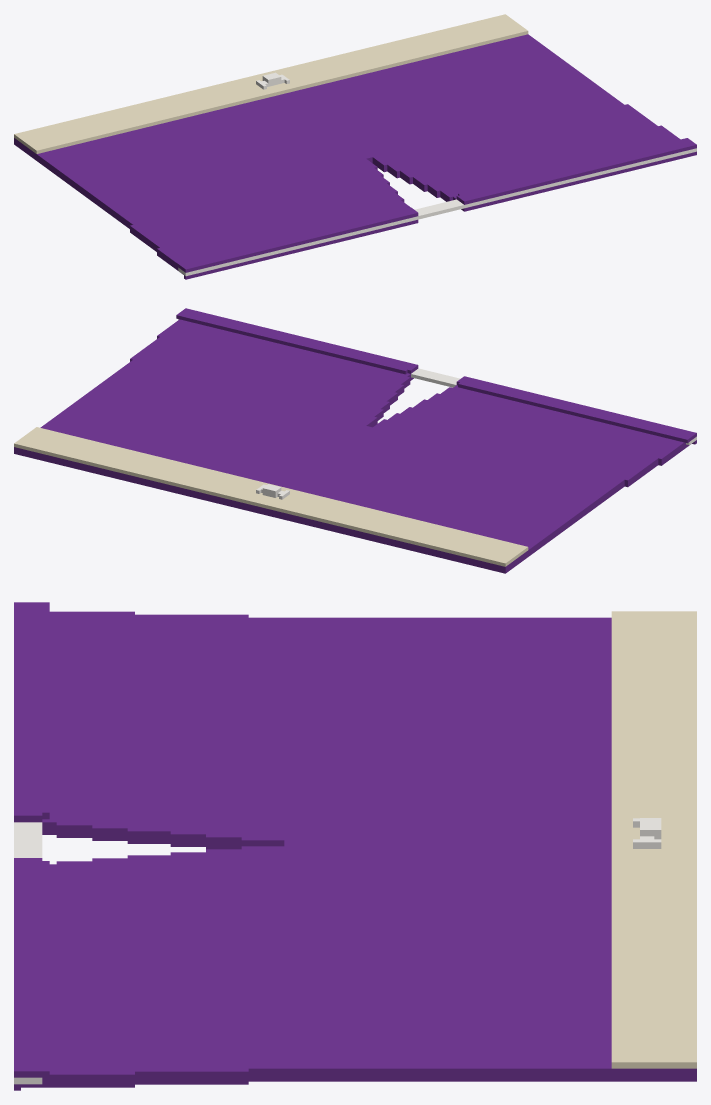
File: boy_shorts.glb
The picture shows the model from 3 angles, top to bottom: view 1: azimuth 30°, elevation 25°; view 2: azimuth 150°, elevation 25°; view 3: azimuth 270°, elevation 25°; orthographic projection. The views are drawn at different scales.
Parts seen in each view (by area): view 1: boy_shorts:compound; view 2: boy_shorts:compound; view 3: boy_shorts:compound.
Boxes of the visible parts, x1,y1,x2,y2 form: boy_shorts:compound: [14, 14, 696, 279]; boy_shorts:compound: [14, 308, 696, 573]; boy_shorts:compound: [14, 602, 696, 1090].
Size of the model in its own units: 0.312 by 0.01 by 0.192.
